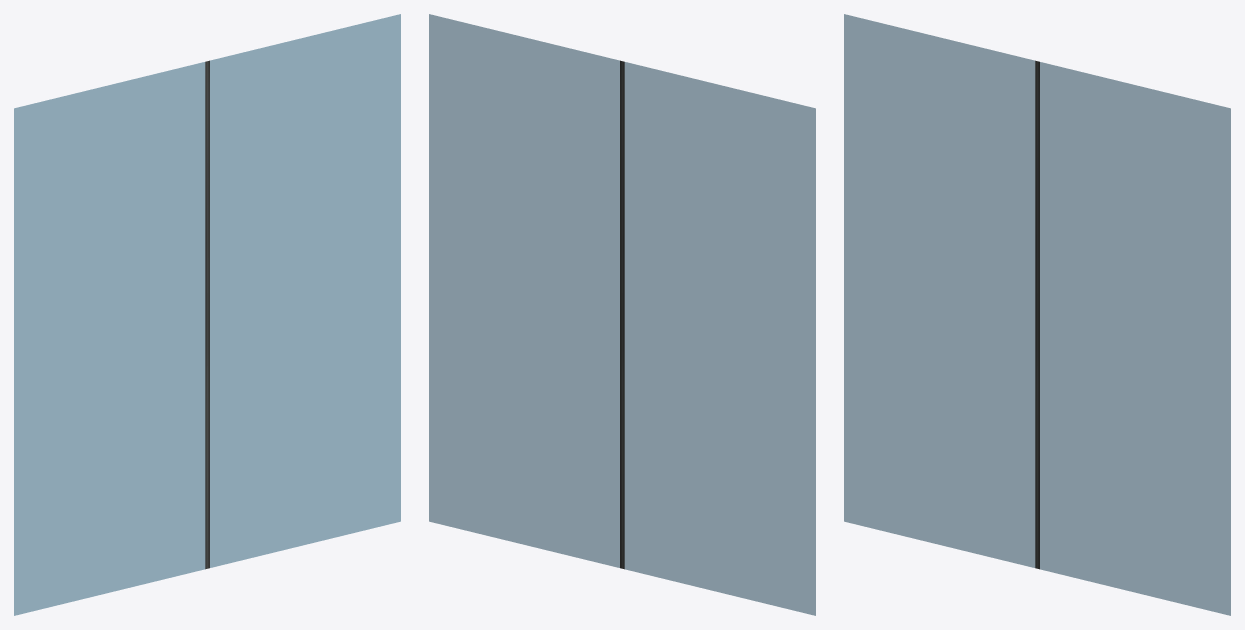
Rendered from window_dor.glb.
The picture shows the model from 3 angles, left to right: view 1: azimuth 30°, elevation 25°; view 2: azimuth 150°, elevation 25°; view 3: azimuth 330°, elevation 25°; orthographic projection.
Visible parts, largest first — view 1: glassWindows.png__, trak3_corrug1a.jpg__; view 2: glassWindows.png__, trak3_corrug1a.jpg__; view 3: glassWindows.png__, trak3_corrug1a.jpg__.
Boxes of the visible parts, box(x1,y1,x2,y2) form: glassWindows.png__: box(14, 14, 400, 615); trak3_corrug1a.jpg__: box(205, 60, 209, 569); glassWindows.png__: box(429, 14, 815, 615); trak3_corrug1a.jpg__: box(620, 60, 624, 569); glassWindows.png__: box(844, 14, 1230, 615); trak3_corrug1a.jpg__: box(1035, 60, 1039, 569).
Size of the model in its own units: 12.63 by 15.84 by 0.
2 materials, 2 textured.
